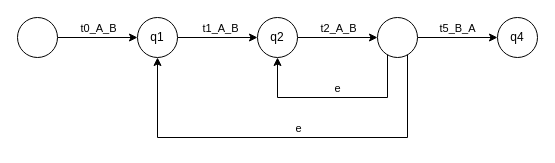
Some shapes in this 555 by 163 pixel diagram are drawn without their labels. Here are the shapes that lost their labels. From the top down, the box of each, then its label:
(16, 16, 58, 58): q0
(376, 16, 418, 58): q3
